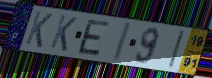9: (134, 27, 160, 65)
E: (76, 18, 111, 58)
I: (110, 21, 134, 64), (166, 29, 186, 70)
K: (49, 13, 79, 53), (24, 10, 54, 50)
